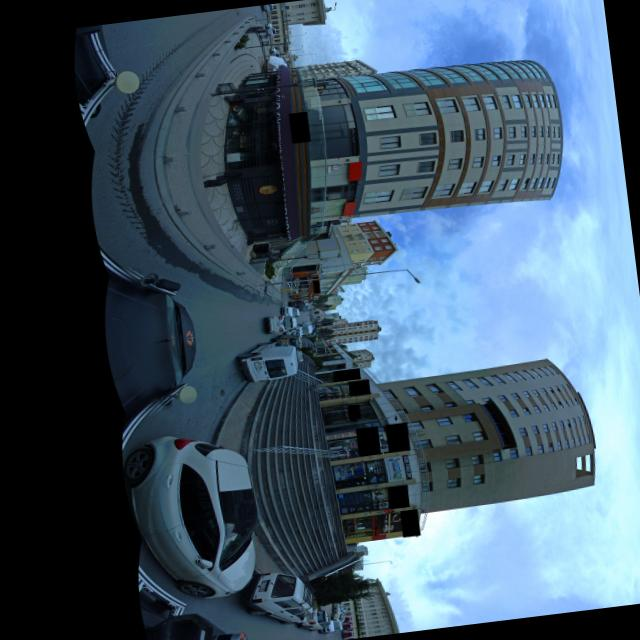SignStore: (383, 456, 411, 483), (384, 423, 409, 452), (355, 427, 380, 456), (287, 112, 307, 143), (388, 484, 408, 509), (401, 509, 416, 537), (332, 368, 360, 382), (347, 380, 369, 395), (347, 405, 360, 419), (312, 280, 319, 293), (312, 277, 317, 279)
